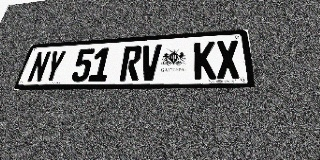1: (88, 47, 112, 82)
5: (70, 48, 95, 82)
K: (194, 41, 216, 80)
N: (26, 51, 52, 83)
R: (119, 45, 143, 81)
V: (139, 44, 162, 81)
X: (216, 40, 241, 79)
Y: (42, 50, 67, 83)
